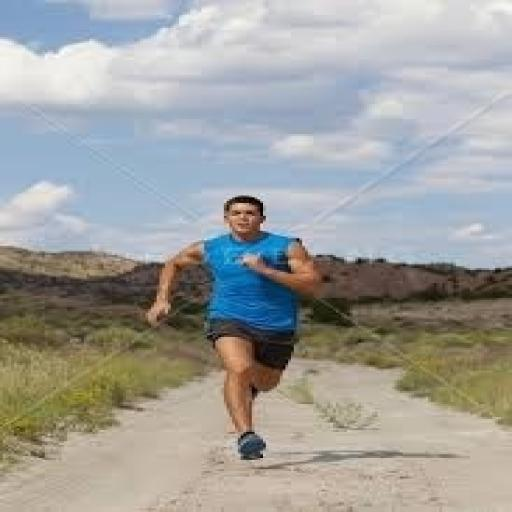running: (143, 194, 327, 462)
